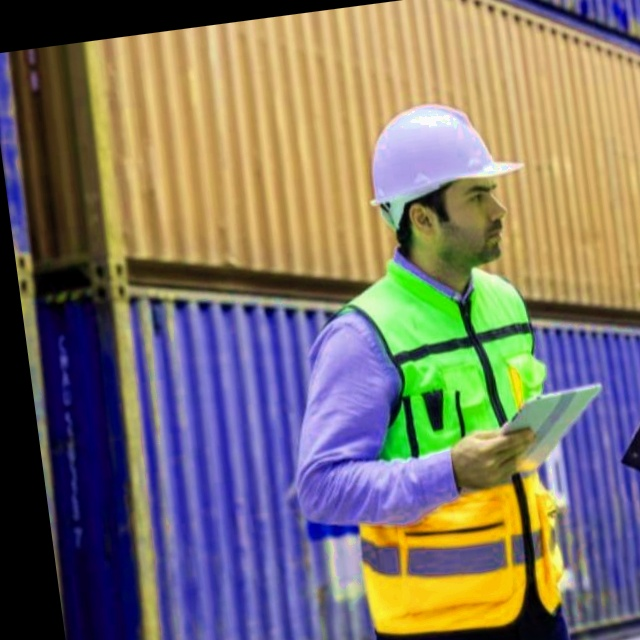Con_Casco: (361, 92, 537, 275)
Con_Chaleco: (326, 259, 571, 639)
